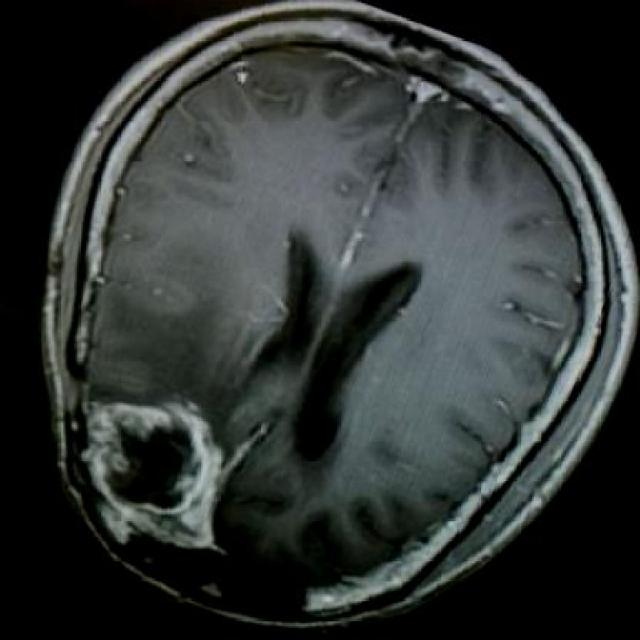Brain-Tumor: (65, 370, 237, 560)
